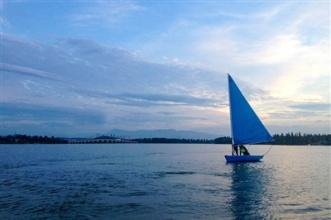fanchuan: (222, 71, 274, 164)
